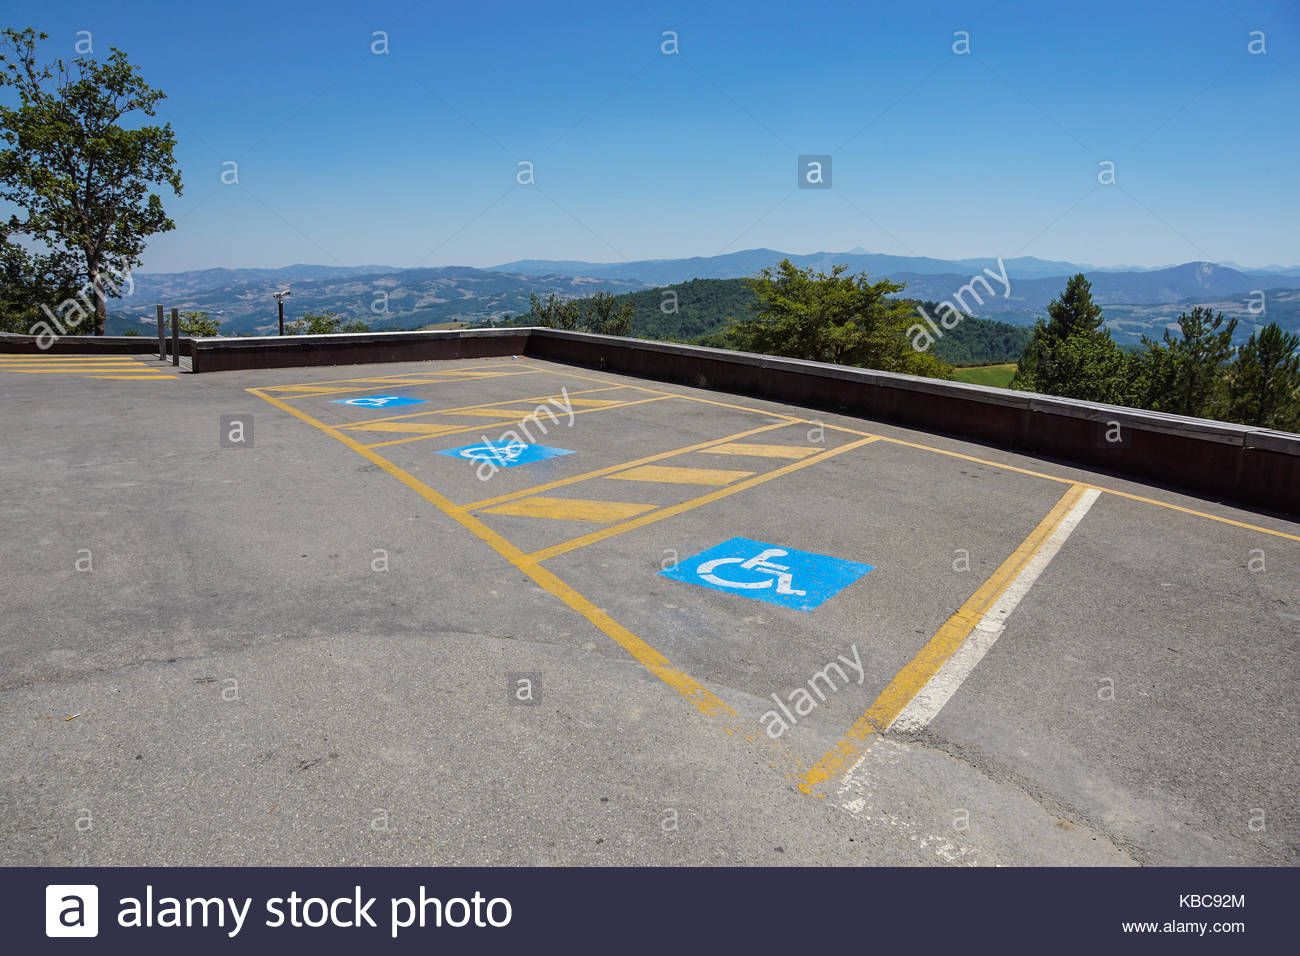empyt_space: (530, 434, 1120, 786), (784, 477, 1300, 860), (367, 393, 813, 539), (273, 368, 635, 431)
